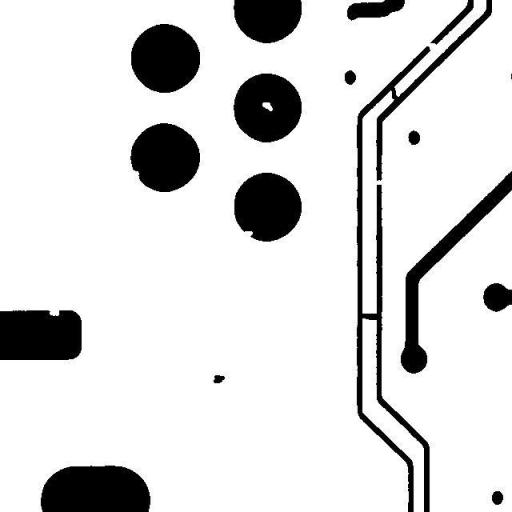copper: (208, 369, 230, 389)
mousebite: (41, 300, 65, 322), (238, 225, 258, 242)
open: (414, 36, 442, 56), (366, 172, 390, 191)
pin-hole: (256, 96, 278, 117)
short: (382, 79, 404, 109), (354, 307, 384, 326)
